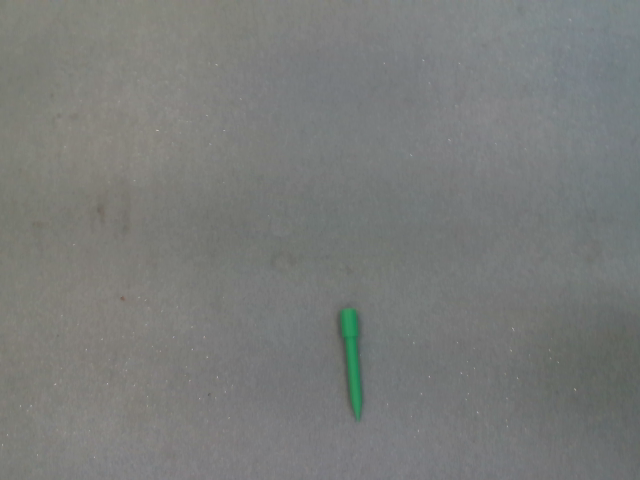Probe: (334, 301, 371, 424)
